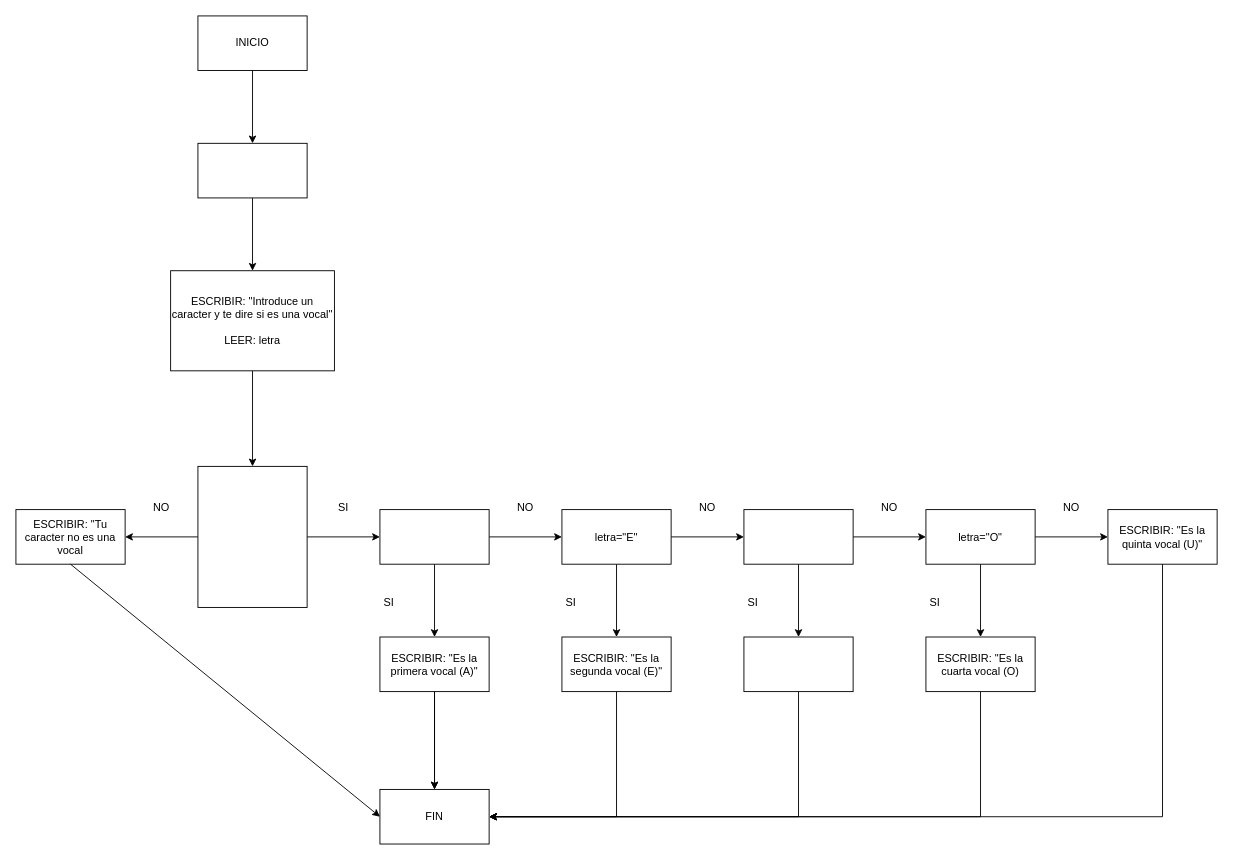
The diagram is 1233 pixels wide and 860 high, and some of its shapes have lost their labels. The centre of each missing label's shape, as x and y in pixels:
ESCRIBIR: "Es la tercera vocal (I)": (x=798, y=664)
letra: CARACTER: (x=252, y=170)
letra="A": (x=434, y=536)
letra="A" OR letra="E" OR letra="I" OR letra="O" OR letra="U": (x=252, y=536)
letra="I": (x=798, y=536)
